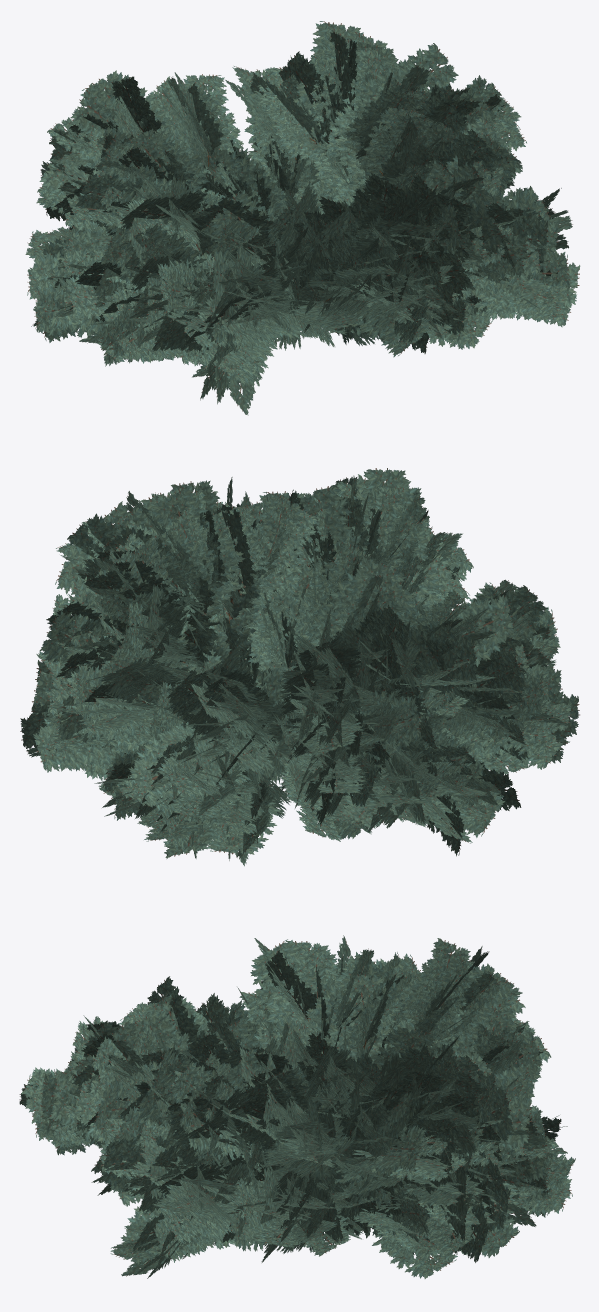
The model's file is juniper_low_v01.glb.
The picture shows the model from 3 angles, top to bottom: view 1: azimuth 30°, elevation 25°; view 2: azimuth 150°, elevation 25°; view 3: azimuth 270°, elevation 25°; orthographic projection. The views are drawn at different scales.
Parts seen in each view (by area): view 1: juniper_low_v01; view 2: juniper_low_v01; view 3: juniper_low_v01.
Part boxes in pixels (x1,y1,x2,y2): juniper_low_v01: [25, 21, 580, 415]; juniper_low_v01: [20, 468, 579, 866]; juniper_low_v01: [19, 935, 575, 1278].
Bounding box in the file's own units: 1.27 × 0.8 × 1.31.
Materials: 2 (2 with a texture image).
